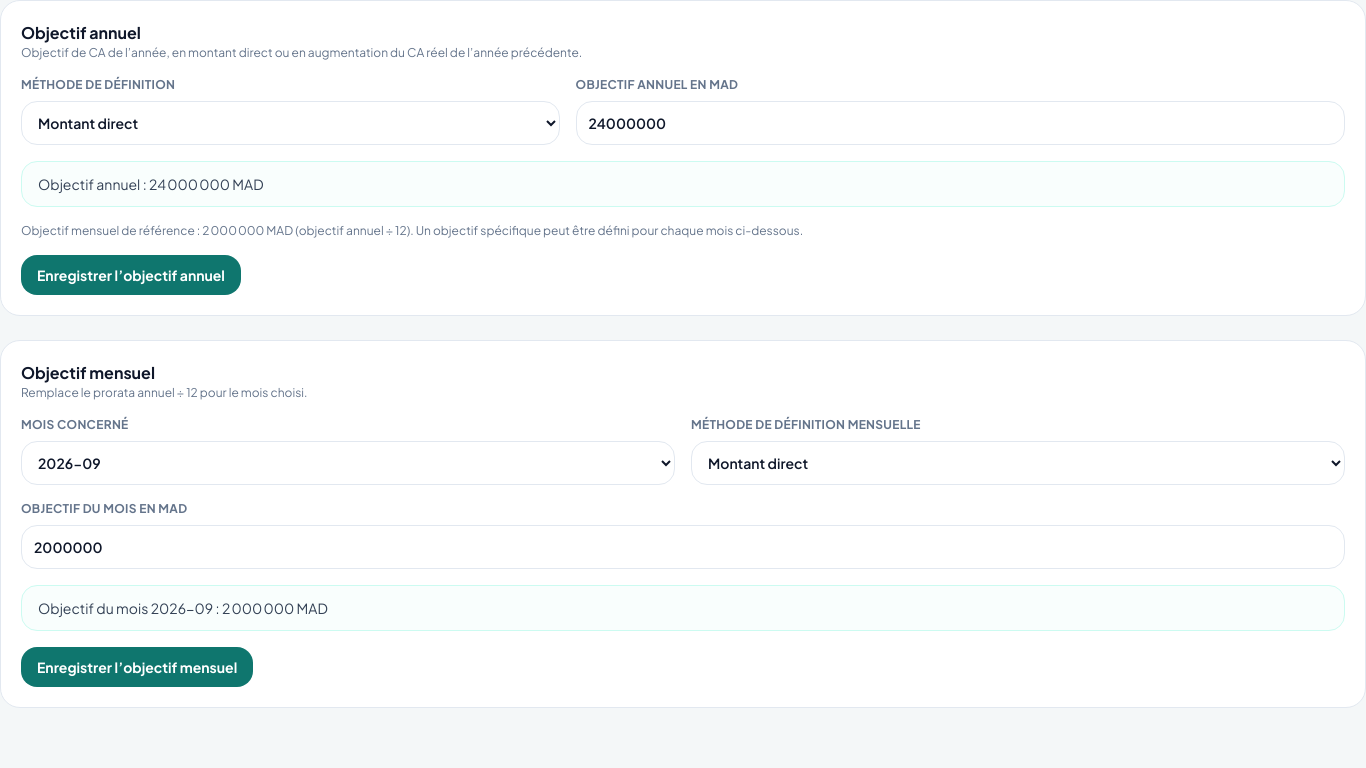
Test: BridgeGoalSettings (table Contrôle) › enregistre un objectif mensuel spécifique pour le mois choisi
The image size is (1366, 768).
Replace the text in the number field labelled "Objectif du mois en MAD" with "125000" at (683, 547), box [21,525,1345,569]
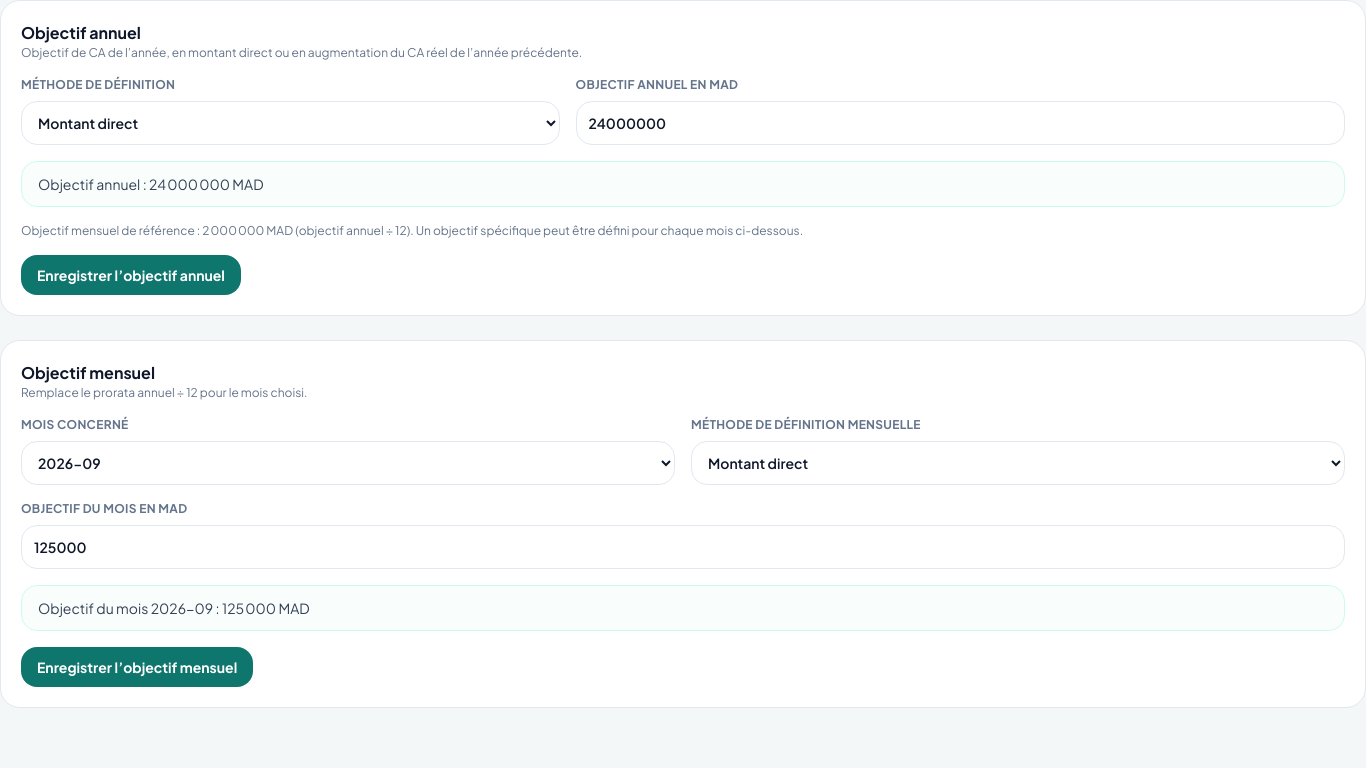
Click the button "Enregistrer l’objectif mensuel" at (137, 667), box [21,647,253,687]
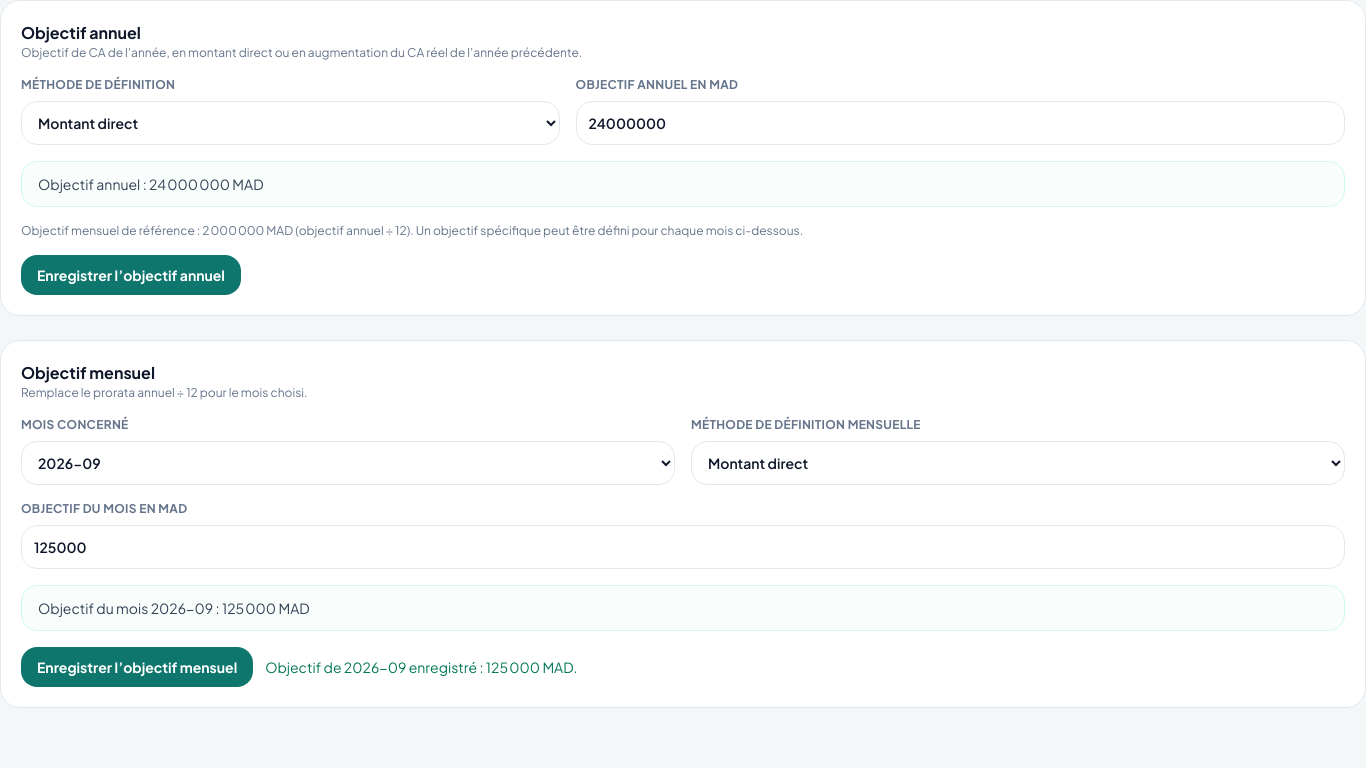
Expected: the text "Objectif de 2026-09 enregistré : 125 000 MAD." is shown, [265,657,578,677]
